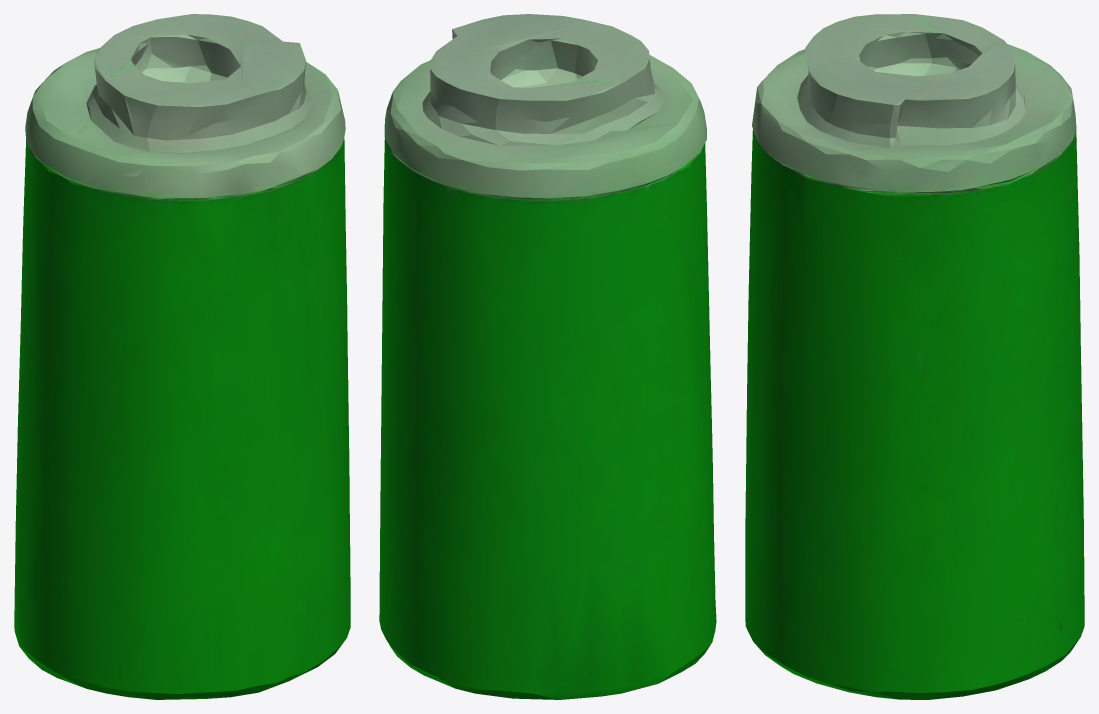
The model's file is battery.glb.
3 renders of one model, left to right at view 1: azimuth 30°, elevation 25°; view 2: azimuth 150°, elevation 25°; view 3: azimuth 270°, elevation 25°, orthographic.
Visible parts, largest first — view 1: model; view 2: model; view 3: model.
Boxes of the visible parts, box(x1,y1,x2,y2) form: model: box(14, 14, 350, 699); model: box(379, 14, 716, 699); model: box(745, 14, 1084, 699).
Bounding box in the file's own units: 1.02 × 1.9 × 1.01.
Materials: 1 (1 with a texture image).
